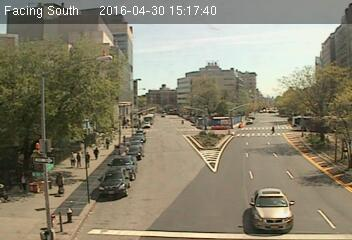neg: (250, 15, 277, 52), (168, 17, 193, 49), (98, 15, 121, 46), (224, 117, 242, 140), (109, 162, 126, 186), (195, 142, 212, 165), (35, 91, 52, 114), (153, 87, 168, 107), (145, 134, 160, 154), (61, 54, 76, 74), (290, 39, 305, 58), (272, 146, 285, 164), (223, 64, 235, 80), (258, 177, 270, 193), (315, 74, 327, 90), (142, 173, 154, 188), (191, 73, 202, 88), (197, 97, 208, 112), (192, 166, 203, 181)
pos: (13, 170, 32, 195), (52, 171, 69, 194), (66, 150, 78, 167), (74, 151, 86, 167), (83, 151, 95, 166), (91, 146, 101, 160), (102, 137, 111, 149), (270, 124, 278, 135), (181, 118, 186, 124)
